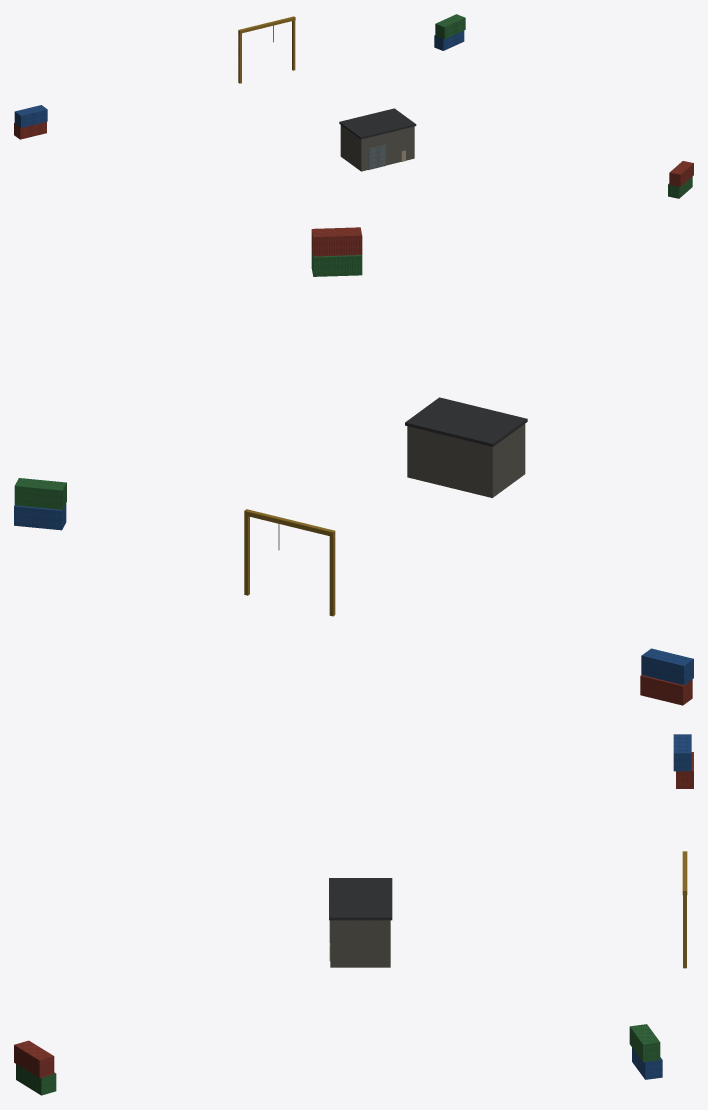
File: vault_container_yard_01.glb
The picture shows the model from 3 angles, top to bottom: view 1: azimuth 30°, elevation 25°; view 2: azimuth 150°, elevation 25°; view 3: azimuth 270°, elevation 25°; orthographic projection. The views are drawn at different scales.
Visible parts, largest first — view 1: vault_container_yard_01; view 2: vault_container_yard_01; view 3: vault_container_yard_01.
Boxes of the visible parts, x1,y1,x2,y2 form: vault_container_yard_01: (14, 14, 693, 198); vault_container_yard_01: (14, 227, 693, 705); vault_container_yard_01: (14, 734, 693, 1095).
Bounding box in the file's own units: 102 × 11.3 × 90.13.
8 materials, 8 textured.
